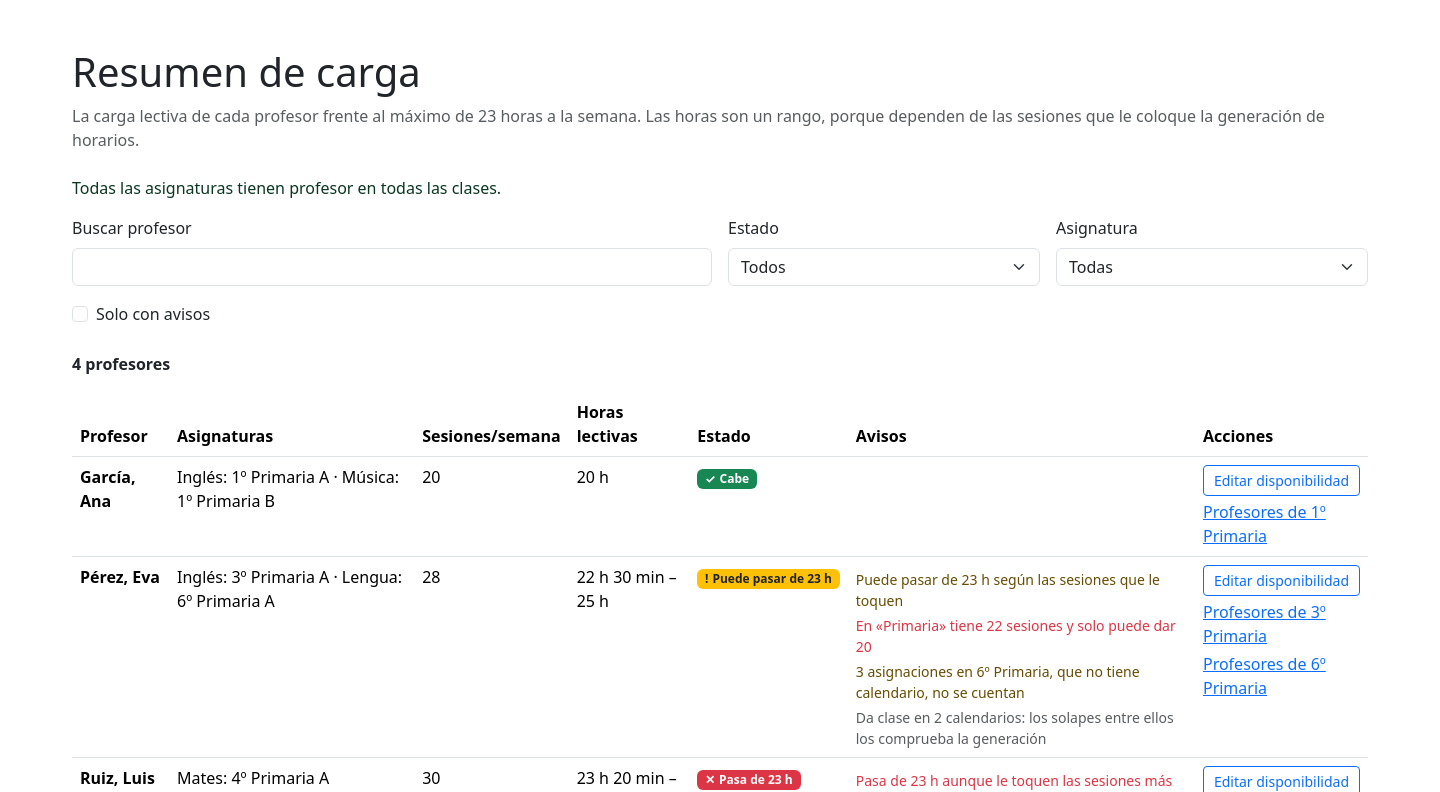
ProfessorsSummaryPage › filters and count › filters by status, with the four statuses as options
Select "Pasa de 23 h" in the dropdown labelled "Estado" at (884, 267), box [728,248,1040,286]
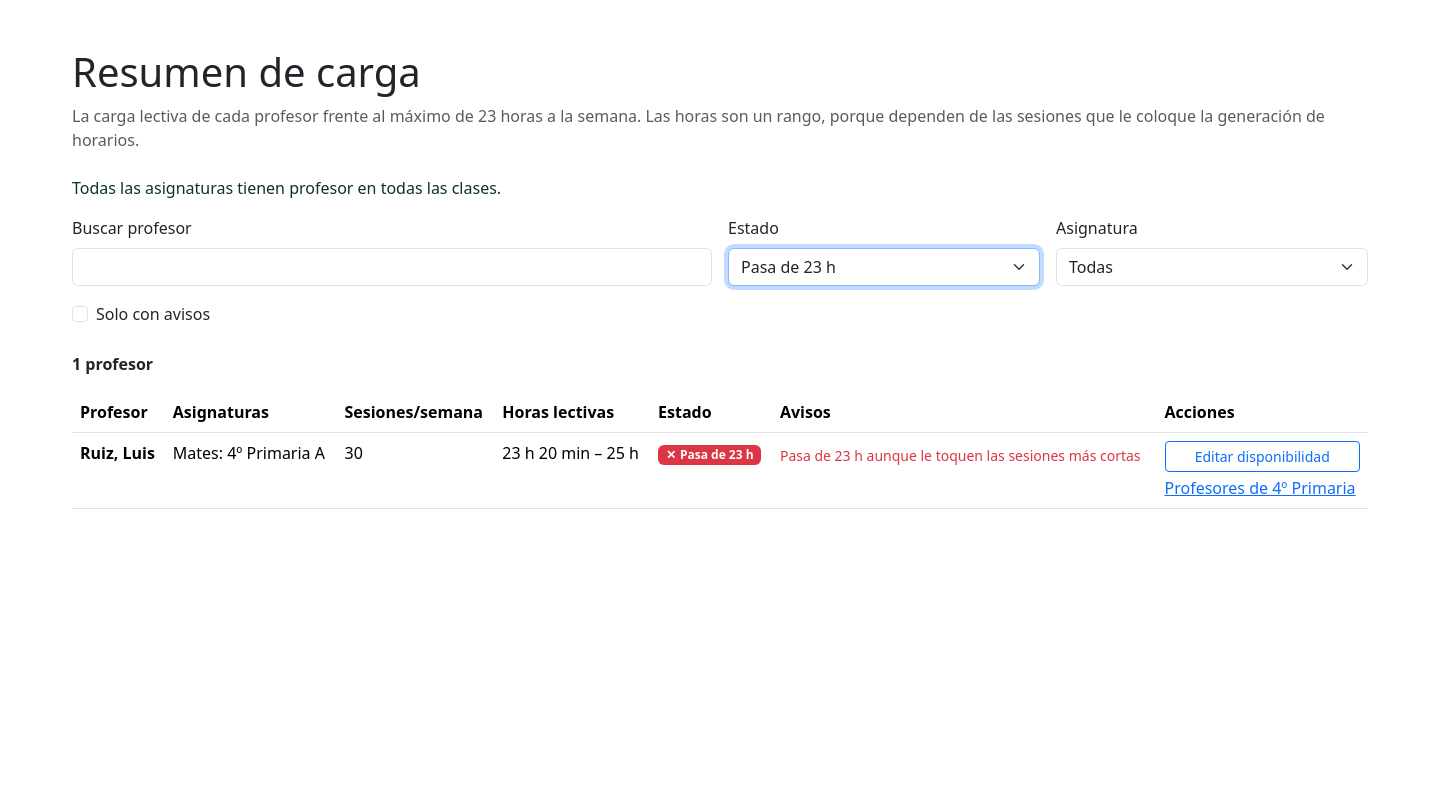
Expected: the message with test id "professors-summary-count" reads "1 profesor", [72,353,153,375]
